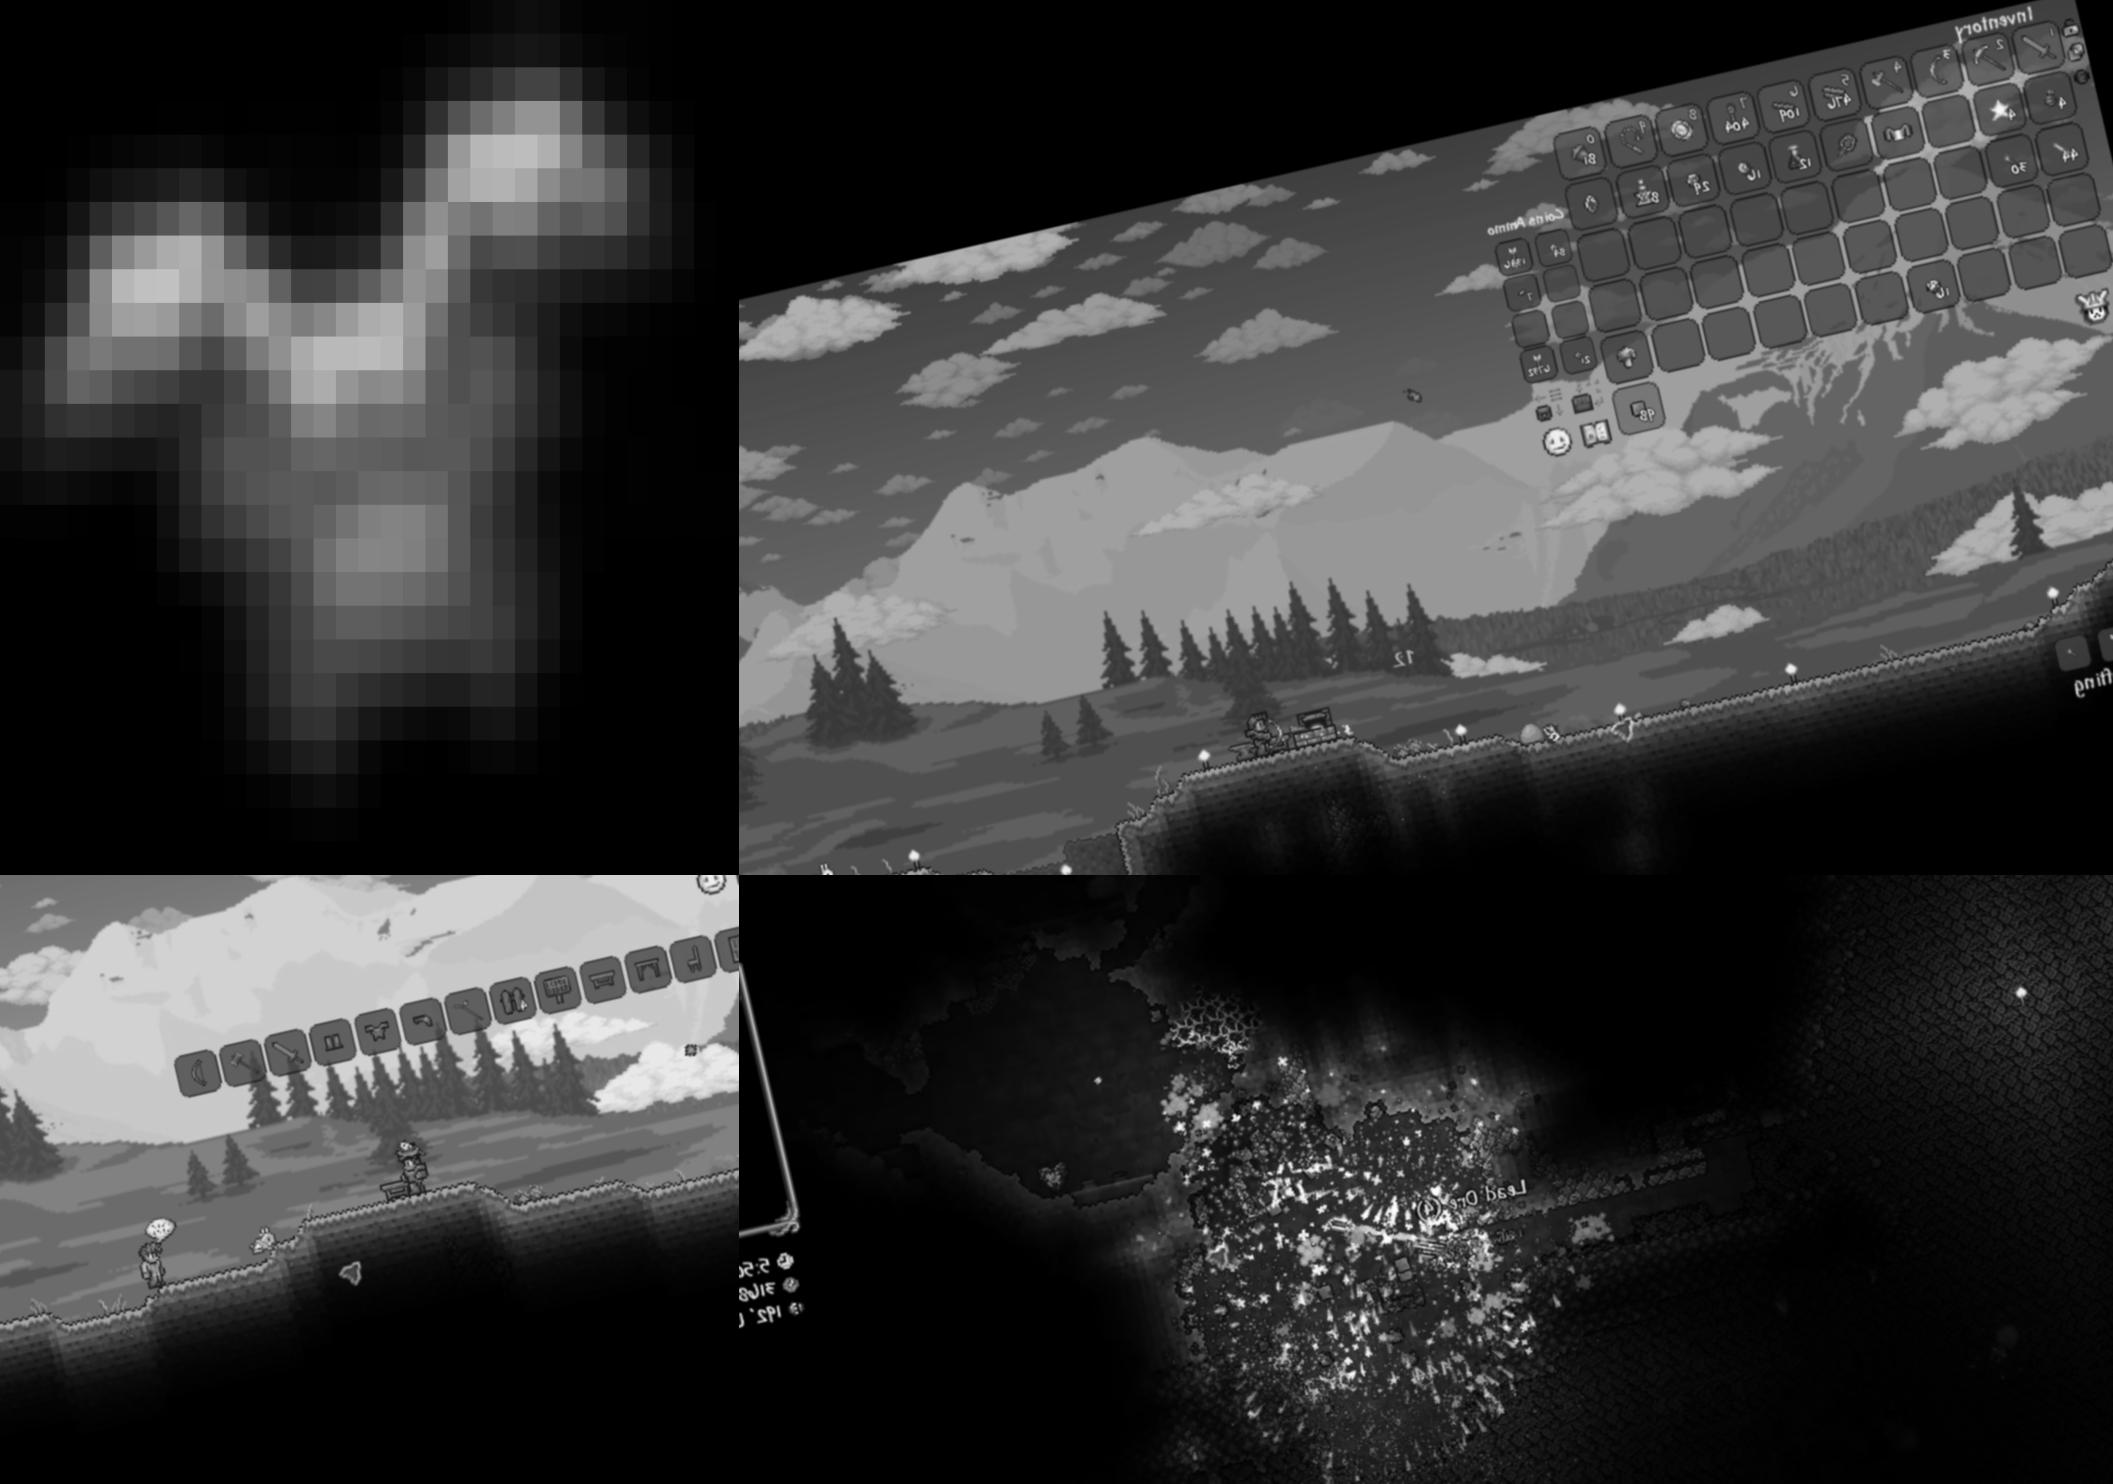breastplate: (0, 0, 739, 875)
helmet: (406, 1010, 438, 1036)
potion: (1782, 141, 1808, 173)
